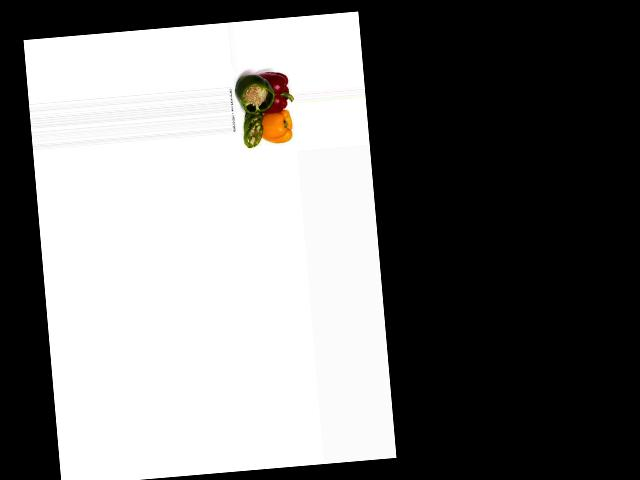bell_pepper: (236, 69, 277, 115)
